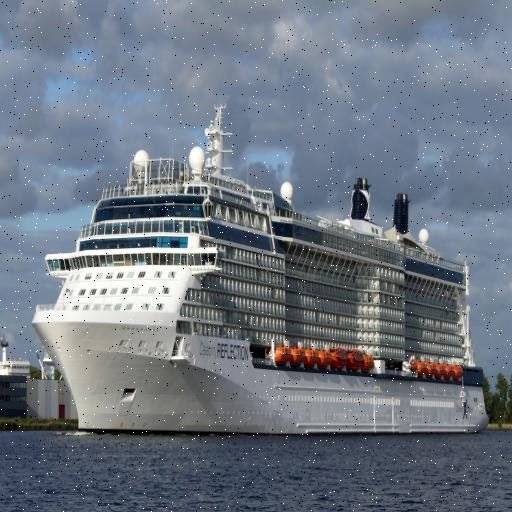cruises: (30, 104, 494, 448)
